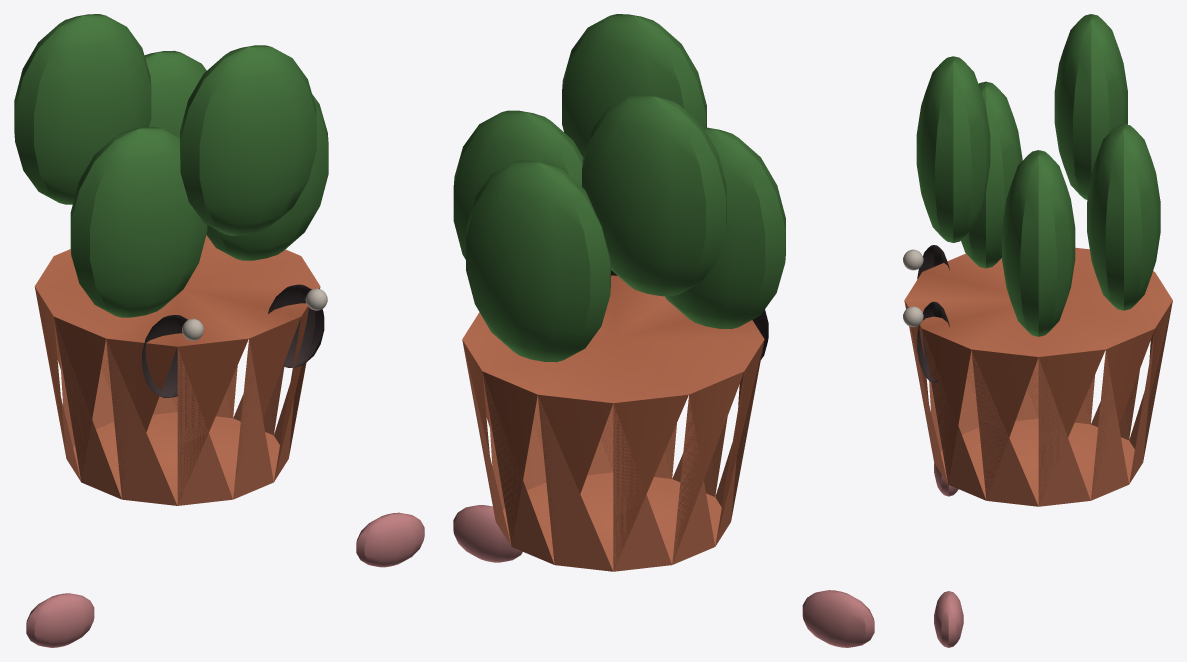
3 renders of one model, left to right at view 1: azimuth 30°, elevation 25°; view 2: azimuth 150°, elevation 25°; view 3: azimuth 270°, elevation 25°, orthographic. The views are drawn at different scales.
Parts seen in each view (by area): view 1: pet_p280f219b; view 2: pet_p280f219b; view 3: pet_p280f219b.
Boxes of the visible parts, x1=… form: pet_p280f219b: x1=14, y1=14, x2=424, y2=647; pet_p280f219b: x1=453, y1=14, x2=874, y2=647; pet_p280f219b: x1=903, y1=14, x2=1172, y2=647.
Size of the model in its own units: 0.2896 by 0.3826 by 0.1809.
